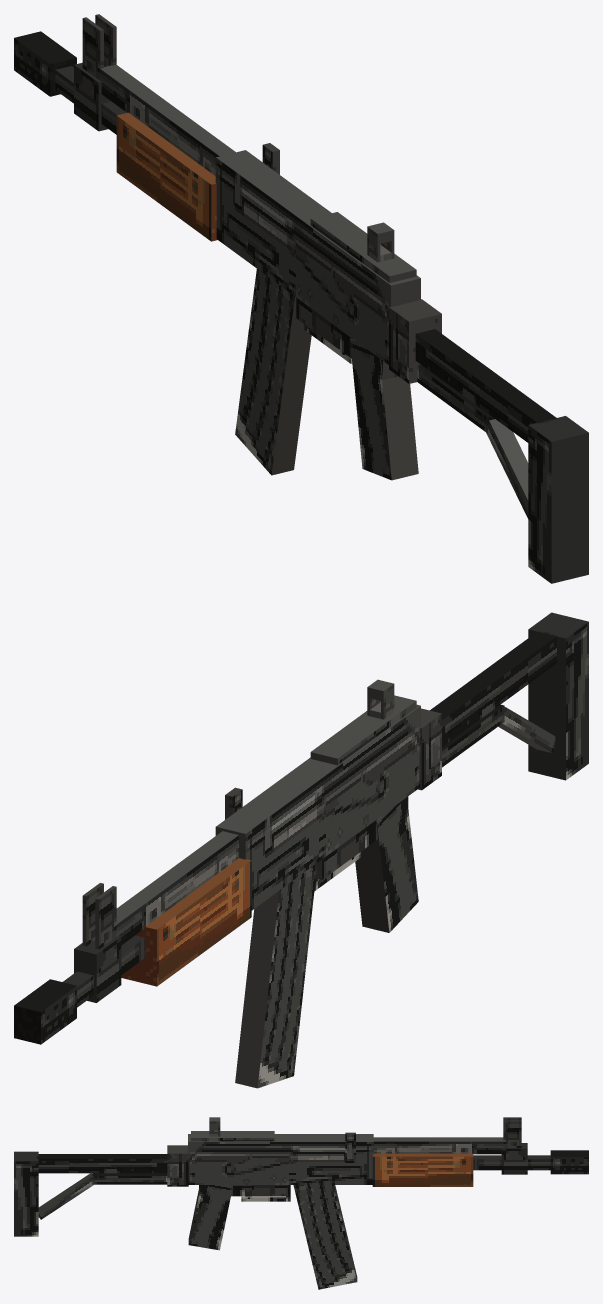
Rendered from galil.glb.
3 views of the same model, one above another, from view 1: azimuth 30°, elevation 25°; view 2: azimuth 150°, elevation 25°; view 3: azimuth 270°, elevation 25° (orthographic). The views are drawn at different scales.
Parts seen in each view (by area): view 1: receiver, magazine, butt_plate, handguard, pistol_grip, stock_top_tube, gas_tube, stock_hinge, flash_hider, receiver_cover, stock_brace, front_sight_base (+4 smaller); view 2: receiver, magazine, butt_plate, handguard, pistol_grip, stock_top_tube, gas_tube, flash_hider, receiver_cover, front_sight_base, stock_hinge, trigger_housing (+5 smaller); view 3: receiver, magazine, handguard, stock_top_tube, gas_tube, pistol_grip, butt_plate, flash_hider, stock_hinge, stock_lower_tube, receiver_cover, barrel (+6 smaller).
Boxes of the visible parts, x1,y1,x2,y2 form: receiver: (215,150,420,364); magazine: (235,269,311,475); butt_plate: (528,416,588,583); handguard: (116,112,217,241); pistol_grip: (350,338,418,480); stock_top_tube: (415,329,557,442); gas_tube: (99,65,235,175); stock_hinge: (389,299,441,383); flash_hider: (14,31,76,96); receiver_cover: (310,212,416,282); stock_brace: (484,419,528,518); front_sight_base: (74,62,110,131); receiver: (215,704,420,910); magazine: (235,863,317,1088); butt_plate: (528,612,588,780); handguard: (121,858,251,986); pistol_grip: (355,797,418,932); stock_top_tube: (430,630,557,746); gas_tube: (116,831,238,945); flash_hider: (14,979,76,1044); receiver_cover: (310,695,416,765); front_sight_base: (74,936,121,1002); stock_hinge: (418,708,441,790); trigger_housing: (315,796,408,880); receiver: (188,1134,373,1184); magazine: (293,1185,357,1289); handguard: (372,1153,473,1186); stock_top_tube: (37,1154,167,1173); gas_tube: (373,1137,503,1154); pistol_grip: (188,1185,232,1250); butt_plate: (14,1151,38,1236); flash_hider: (550,1150,588,1174); stock_hinge: (167,1145,188,1186); stock_lower_tube: (92,1173,167,1184); receiver_cover: (191,1131,274,1141); barrel: (473,1155,550,1170).
Bounding box in the file's own units: 0.0445 × 0.315 × 0.98.
1 material, 1 textured.
